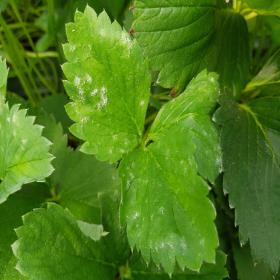Powdery Mildew Leaf: (117, 126, 221, 278), (60, 2, 152, 165), (143, 67, 223, 186), (0, 101, 56, 205)
